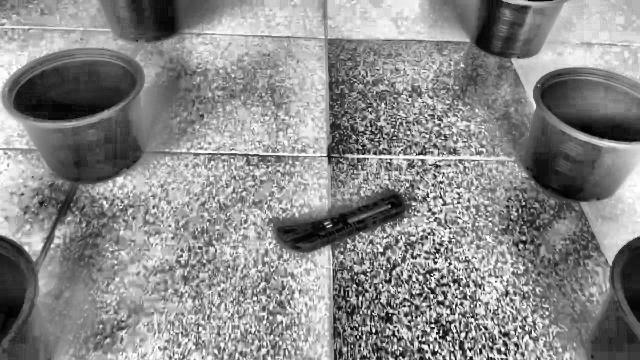pot: (0, 48, 147, 185), (522, 67, 640, 202)
